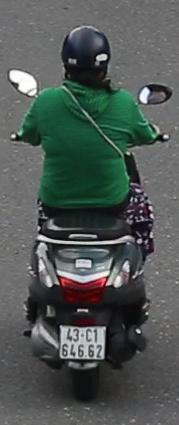LP: (57, 323, 107, 366)
helmet: (59, 22, 113, 91)
